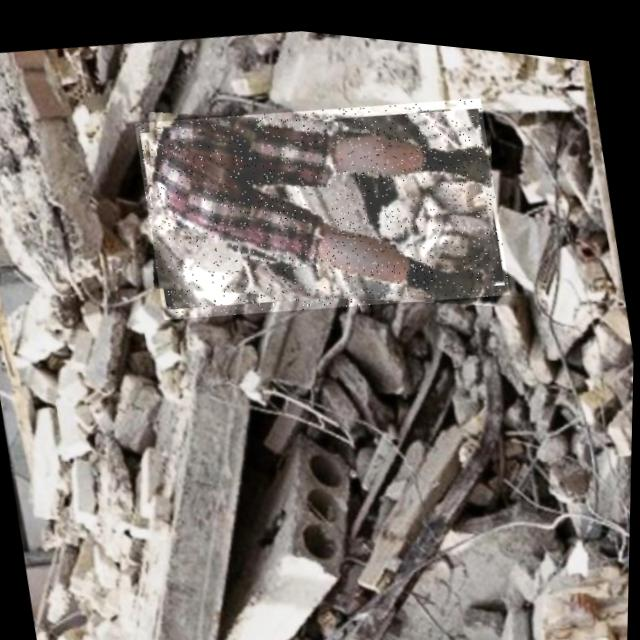Person in Rubble: (131, 58, 514, 343)
